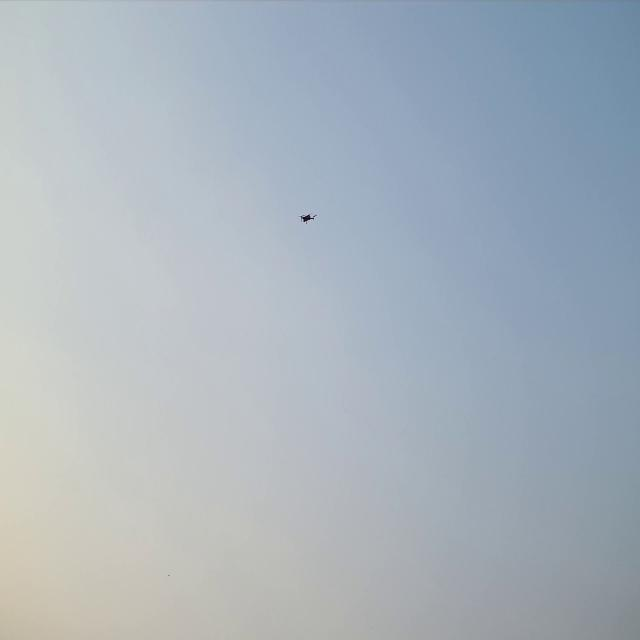UAV: (298, 211, 319, 225)
